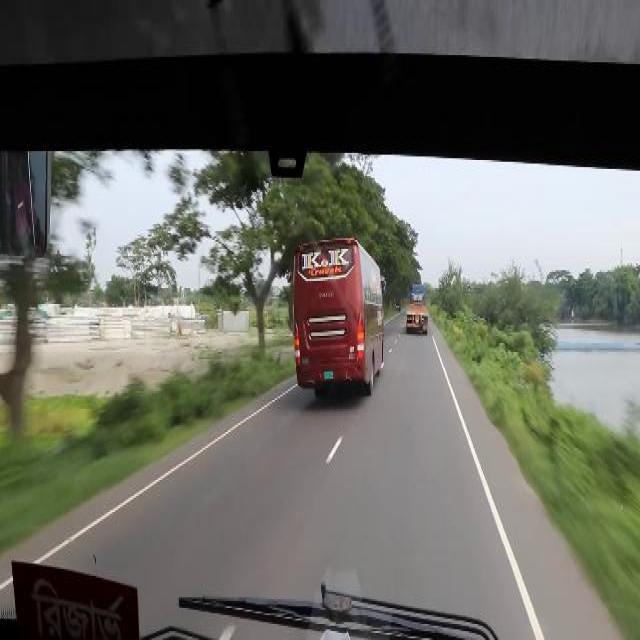vehicle: (295, 239, 386, 396), (407, 283, 428, 334)
